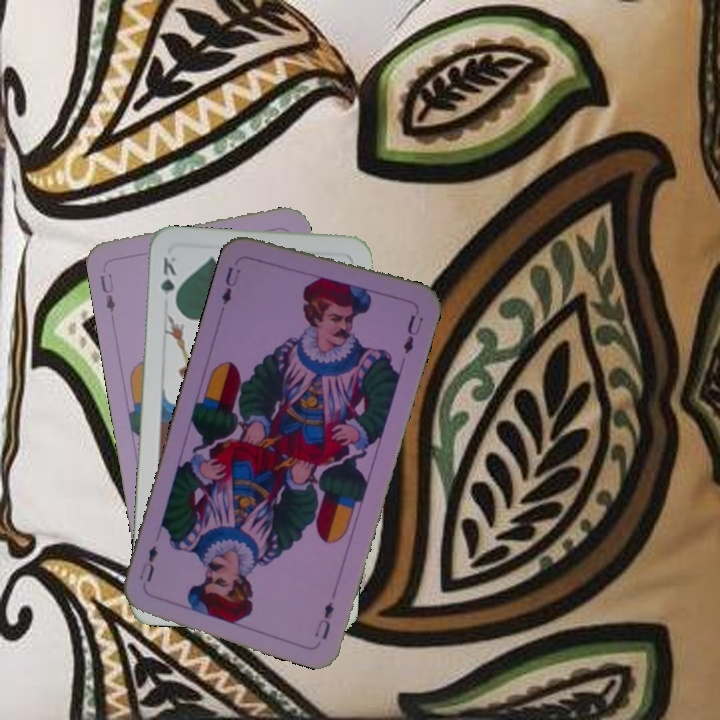EU: (310, 598, 337, 642), (217, 263, 243, 308), (96, 269, 118, 315)
GK: (156, 252, 179, 310)
